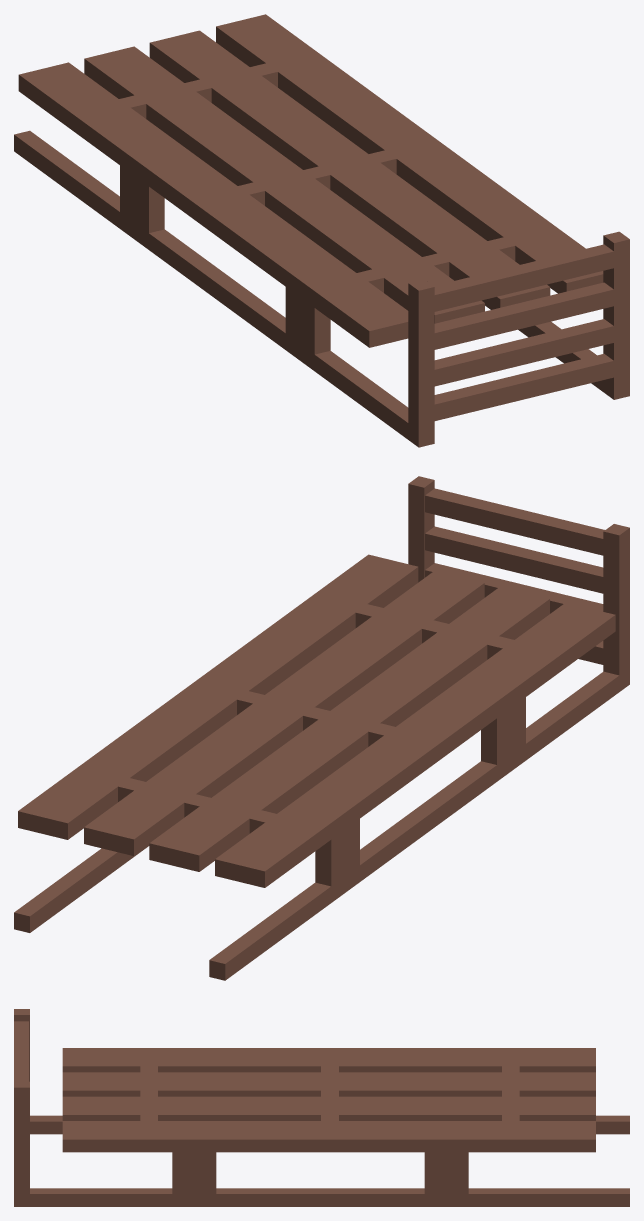
The model's file is 071 Buggy.fbx.
3 views of the same model, one above another, from view 1: azimuth 30°, elevation 25°; view 2: azimuth 150°, elevation 25°; view 3: azimuth 270°, elevation 25° (orthographic). The views are drawn at different scales.
Parts seen in each view (by area): view 1: Lowpoly_Christmas_Pack_071:Lowpoly_Christmas_Pack_070:pCube2; view 2: Lowpoly_Christmas_Pack_071:Lowpoly_Christmas_Pack_070:pCube2; view 3: Lowpoly_Christmas_Pack_071:Lowpoly_Christmas_Pack_070:pCube2.
Boxes of the visible parts, x1,y1,x2,y2 form: Lowpoly_Christmas_Pack_071:Lowpoly_Christmas_Pack_070:pCube2: (14, 14, 629, 447); Lowpoly_Christmas_Pack_071:Lowpoly_Christmas_Pack_070:pCube2: (14, 476, 629, 980); Lowpoly_Christmas_Pack_071:Lowpoly_Christmas_Pack_070:pCube2: (14, 1009, 629, 1206).
Bounding box in the file's own units: 0.9475 × 0.5748 × 2.69.
